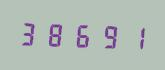eight: (43, 18, 67, 49)
nine: (93, 20, 117, 51)
one: (118, 21, 142, 52)
six: (68, 19, 92, 50)
three: (18, 17, 42, 48)
